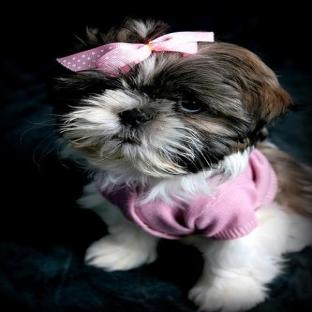Animal: (52, 21, 311, 311)
